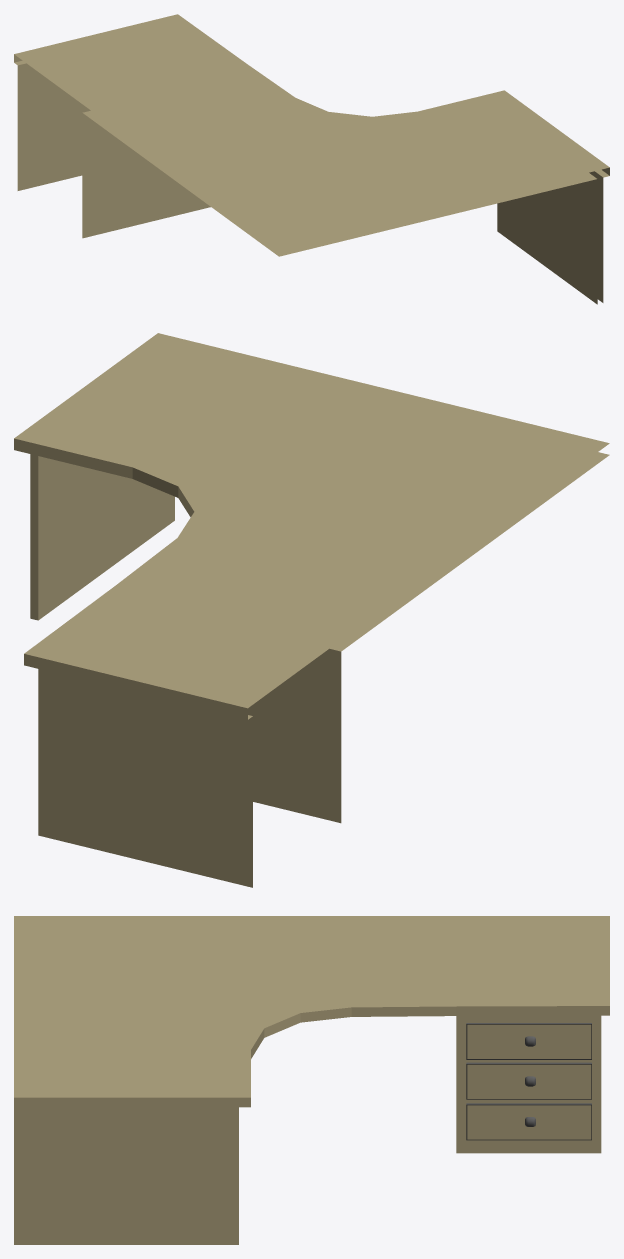
The model's file is Table.fbx.
3 renders of one model, top to bottom at view 1: azimuth 30°, elevation 25°; view 2: azimuth 150°, elevation 25°; view 3: azimuth 270°, elevation 25°, orthographic. The views are drawn at different scales.
Visible parts, largest first — view 1: Table.005; view 2: Table.005; view 3: Table.005.
Boxes of the visible parts, x1=… form: Table.005: x1=14, y1=14, x2=609, y2=304; Table.005: x1=14, y1=333, x2=609, y2=887; Table.005: x1=14, y1=916, x2=609, y2=1244.
Bounding box in the file's own units: 2.35 × 0.9123 × 3.27.
